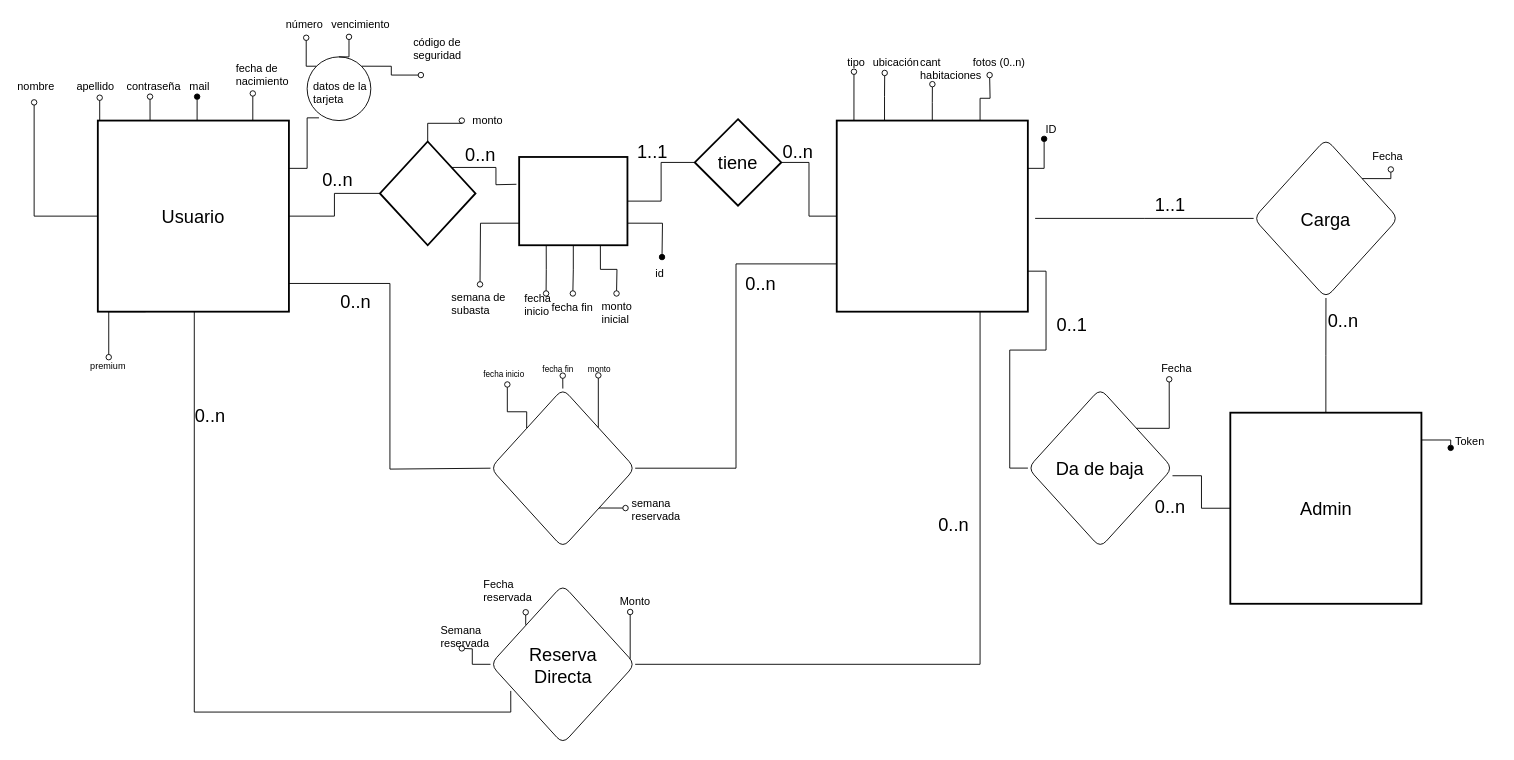
The diagram is 1514 pixels wide and 760 high, and some of its shapes have lost their labels. Each missing label, with the centre of its shape:
"participa en" goes at point 427,193.
"Propiedad" goes at point 931,215.
"Subasta" goes at point 573,201.
"Tiene Hot Sale" goes at point 562,468.
